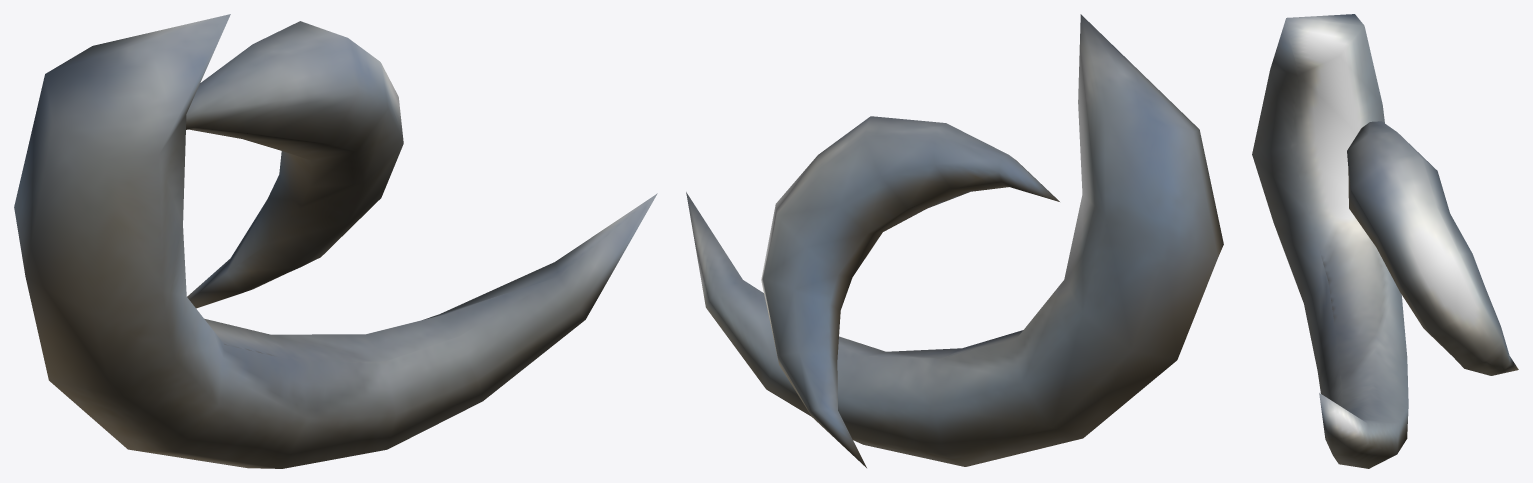
File: sm_dwarf_accessories_07.gltf
3 views of the same model, side by side, from view 1: azimuth 30°, elevation 25°; view 2: azimuth 150°, elevation 25°; view 3: azimuth 270°, elevation 25° (orthographic). The views are drawn at different scales.
Visible parts, largest first — view 1: sm_dwarf_accessories_07; view 2: sm_dwarf_accessories_07; view 3: sm_dwarf_accessories_07.
Boxes of the visible parts, bbox=[...] form: sm_dwarf_accessories_07: bbox=[14, 14, 657, 468]; sm_dwarf_accessories_07: bbox=[686, 14, 1223, 467]; sm_dwarf_accessories_07: bbox=[1252, 14, 1518, 468].
Size of the model in its own units: 6.05 by 4.72 by 3.09.
1 material, 1 textured.
